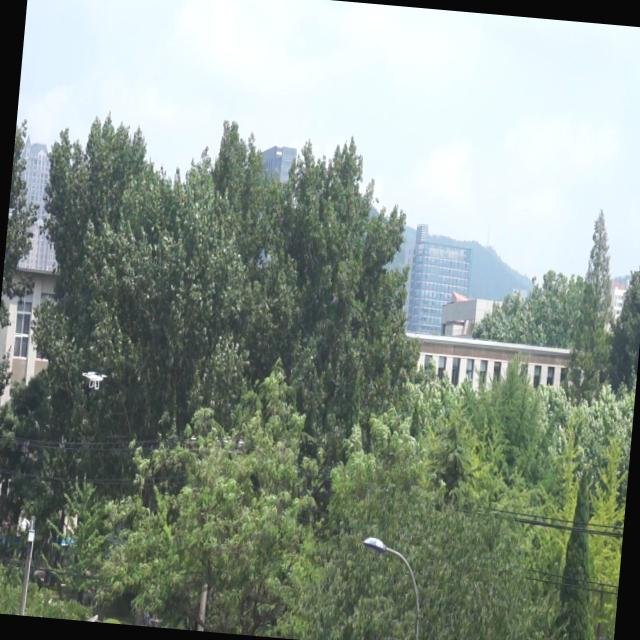drone: (78, 363, 111, 398)
